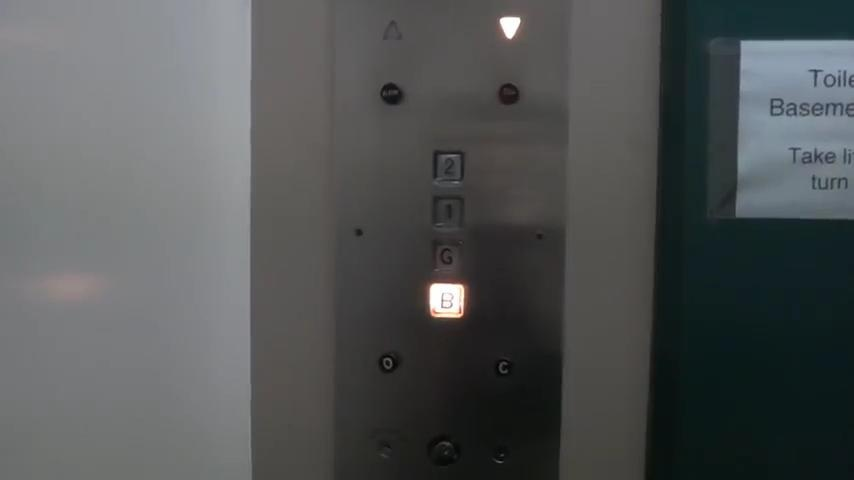1: (429, 194, 468, 232)
2: (432, 149, 465, 187)
B: (427, 282, 466, 320)
C: (493, 356, 514, 379)
G: (430, 238, 464, 275)
O: (379, 352, 399, 375)
blur: (379, 81, 404, 105), (498, 82, 521, 106), (489, 444, 510, 465), (376, 442, 396, 461)
keyhole: (426, 435, 462, 466)
